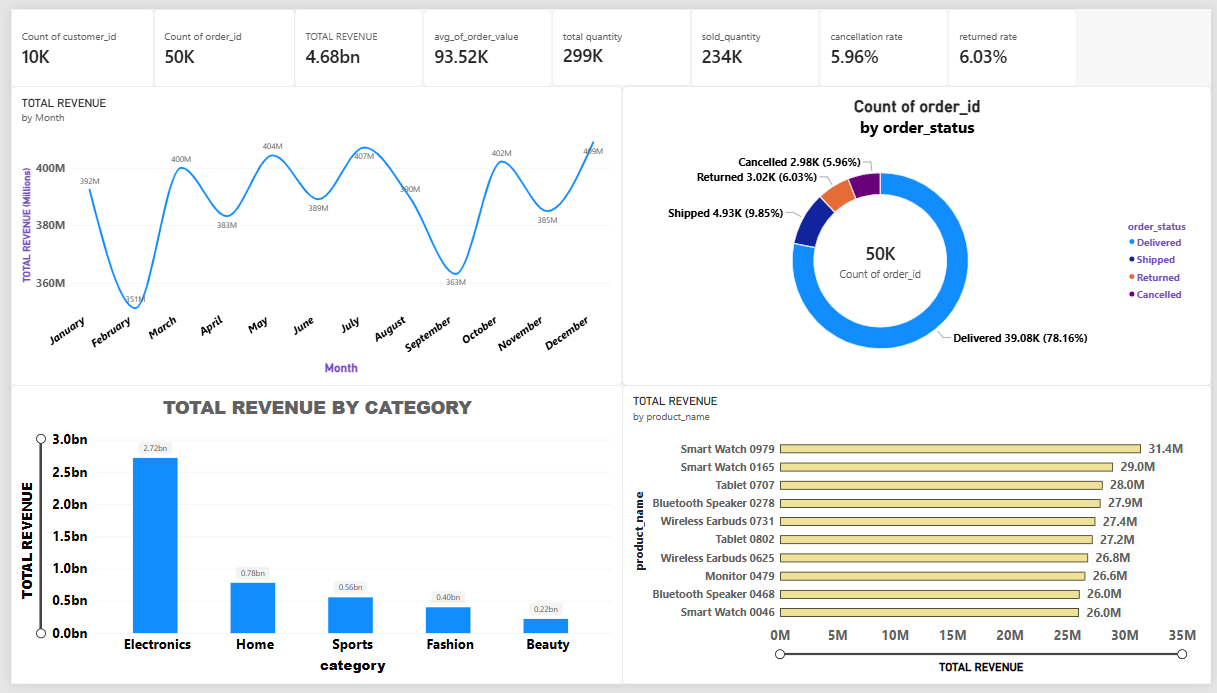

What the dashboard file says about the page in this screenshot:
{"tool":"powerbi","page":{"name":"Executive sales dashboards","canvas":[1920,1080],"ordinal":0},"visuals":[{"type":"cardVisual","fields":{"Data":["Count(public customers.customer_id)"]},"box":[0,0,228.5,125.6],"z":0},{"type":"cardVisual","fields":{"Data":["Count(public orders.order_id)"]},"box":[228.5,0,226.4,125.6],"z":1000},{"type":"cardVisual","fields":{"Data":["public customers.TOTAL REVENUE"]},"box":[454.9,0,205.8,125.6],"z":2000},{"type":"cardVisual","fields":{"Data":["public customers.avg_of_order_value"]},"box":[660.7,0,205.8,125.6],"z":3000},{"type":"cardVisual","fields":{"Data":["Sum(public order_items.quantity)"]},"box":[866.6,0,222.3,123.5],"z":4000},{"type":"cardVisual","fields":{"Data":["public customers.sold_quantity"]},"box":[1088.9,0,205.8,125.6],"z":5000},{"type":"cardVisual","fields":{"Data":["public customers.cancellation rate"]},"box":[1294.7,0,205.8,125.6],"z":6000},{"type":"cardVisual","fields":{"Data":["public customers.returned rate"]},"box":[1500.5,0,205.8,125.6],"z":7000},{"type":"lineChart","fields":{"Category":["public orders.order_date.Variation.Date Hierarchy.Month"],"Y":["public customers.TOTAL REVENUE"]},"box":[0,124,978,478],"z":8000},{"type":"clusteredColumnChart","fields":{"Category":["public products.category"],"Y":["public customers.TOTAL REVENUE"]},"box":[0,602,978,478],"z":8001},{"type":"donutChart","fields":{"Category":["public orders.order_status"],"Y":["Count(public orders.order_id)"]},"box":[978,124,942,478],"z":8002},{"type":"barChart","fields":{"Category":["public products.product_name"],"Y":["public customers.TOTAL REVENUE"]},"box":[978,602,942,478],"z":8003}]}

Visuals, with their boxes in screenshot pixels (x1, y1, x2, y2), scaled from the page's 1920x1080 canvas onto the 1217x693 screenshot:
cardVisual - Count(public customers.customer_id): x1=0 y1=0 x2=145 y2=81
cardVisual - Count(public orders.order_id): x1=145 y1=0 x2=288 y2=81
cardVisual - public customers.TOTAL REVENUE: x1=288 y1=0 x2=419 y2=81
cardVisual - public customers.avg_of_order_value: x1=419 y1=0 x2=549 y2=81
cardVisual - Sum(public order_items.quantity): x1=549 y1=0 x2=690 y2=79
cardVisual - public customers.sold_quantity: x1=690 y1=0 x2=821 y2=81
cardVisual - public customers.cancellation rate: x1=821 y1=0 x2=951 y2=81
cardVisual - public customers.returned rate: x1=951 y1=0 x2=1082 y2=81
lineChart - public orders.order_date.Variation.Date Hierarchy.Month x public customers.TOTAL REVENUE: x1=0 y1=80 x2=620 y2=386
clusteredColumnChart - public products.category x public customers.TOTAL REVENUE: x1=0 y1=386 x2=620 y2=692
donutChart - public orders.order_status x Count(public orders.order_id): x1=620 y1=80 x2=1216 y2=386
barChart - public products.product_name x public customers.TOTAL REVENUE: x1=620 y1=386 x2=1216 y2=692
